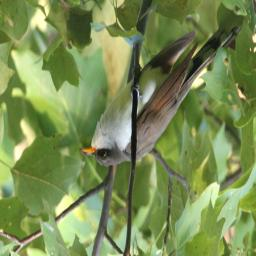Cuckoo: (83, 24, 244, 172)
